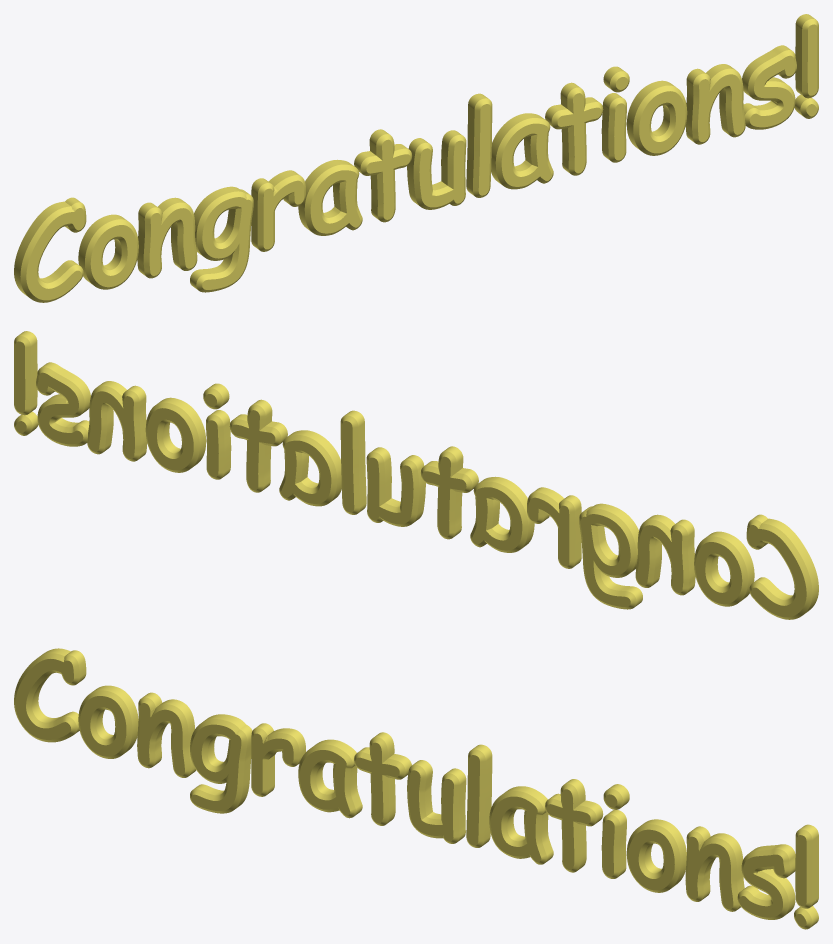
Rendered from congrats text.fbx.
3 renders of one model, top to bottom at view 1: azimuth 30°, elevation 25°; view 2: azimuth 150°, elevation 25°; view 3: azimuth 330°, elevation 25°, orthographic.
Parts seen in each view (by area): view 1: congrats_text; view 2: congrats_text; view 3: congrats_text.
Boxes of the visible parts, bbox=[...] form: congrats_text: bbox=[14, 14, 818, 302]; congrats_text: bbox=[14, 331, 818, 619]; congrats_text: bbox=[14, 648, 818, 929].
Size of the model in its own units: 107 by 16.23 by 2.5.
